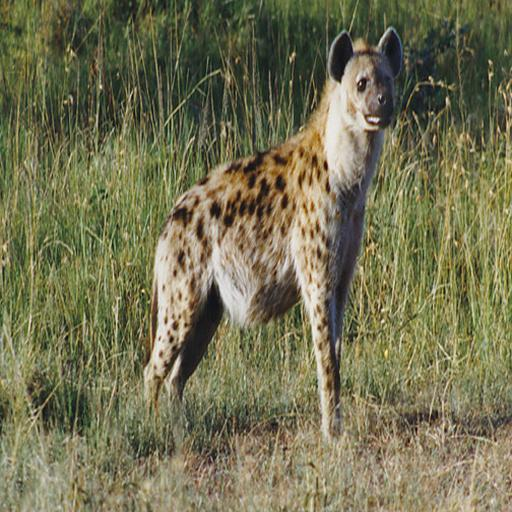Hyena: (120, 24, 418, 448)
